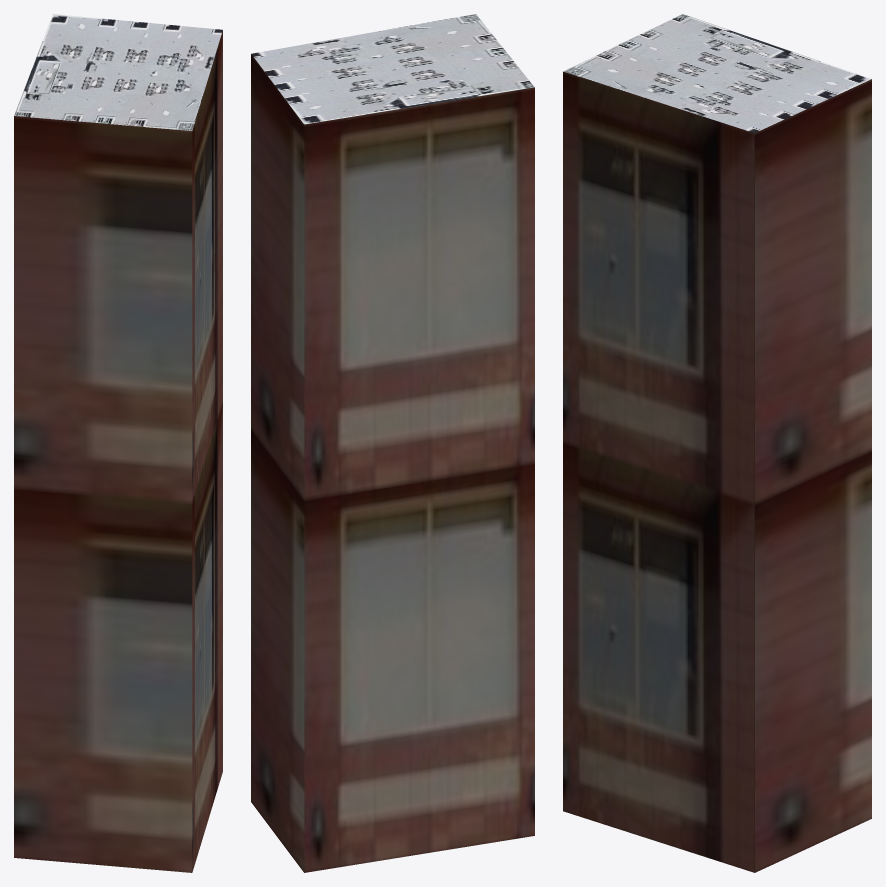
Rendered from ResTex__1670.fbx.
3 views of the same model, side by side, from view 1: azimuth 30°, elevation 25°; view 2: azimuth 150°, elevation 25°; view 3: azimuth 270°, elevation 25° (orthographic).
Parts seen in each view (by area): view 1: CityEngineMaterial_13_m, CityEngineMaterial_4_m; view 2: CityEngineMaterial_13_m, CityEngineMaterial_4_m; view 3: CityEngineMaterial_13_m, CityEngineMaterial_4_m.
Boxes of the visible parts, left/top/right/bottom form: CityEngineMaterial_13_m: left=14, top=30, right=222, bottom=872; CityEngineMaterial_4_m: left=14, top=14, right=222, bottom=130; CityEngineMaterial_13_m: left=251, top=54, right=534, bottom=872; CityEngineMaterial_4_m: left=251, top=14, right=534, bottom=124; CityEngineMaterial_13_m: left=563, top=71, right=871, bottom=872; CityEngineMaterial_4_m: left=563, top=14, right=871, bottom=132.
Bounding box in the file's own units: 2.07 × 6 × 2.27.
Materials: 2 (2 with a texture image).
